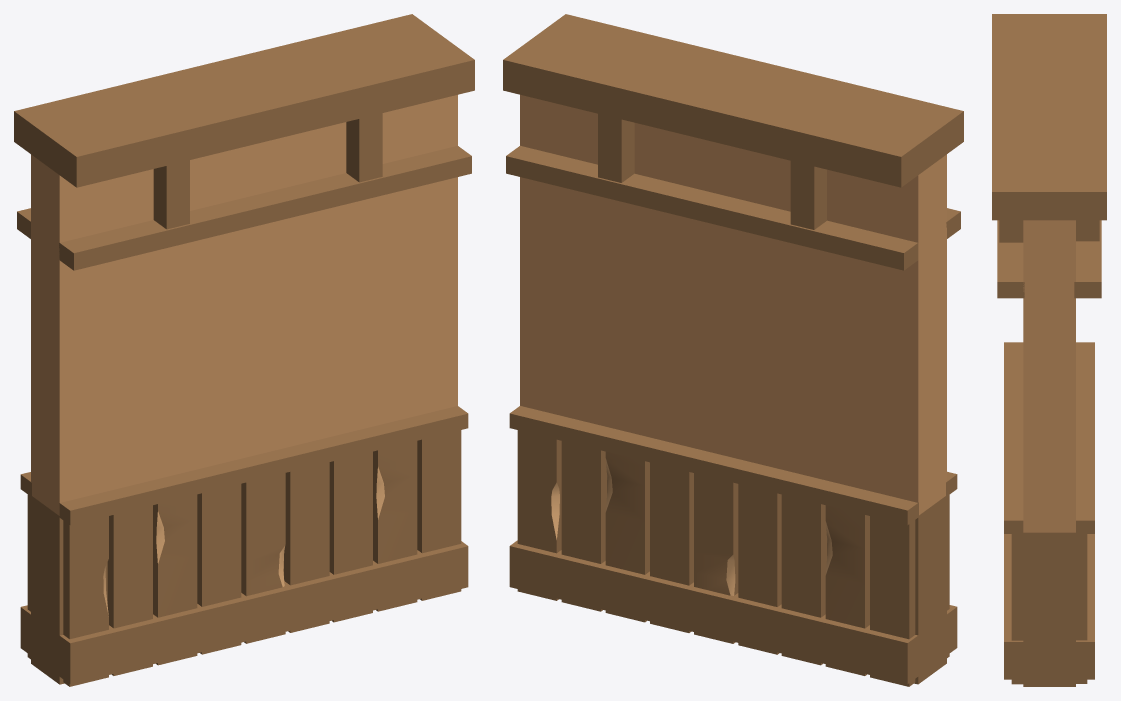
File: normal2.fbx
The picture shows the model from 3 angles, left to right: view 1: azimuth 30°, elevation 25°; view 2: azimuth 150°, elevation 25°; view 3: azimuth 270°, elevation 25°; orthographic projection. The views are drawn at different scales.
Parts seen in each view (by area): view 1: Wall_Normal; view 2: Wall_Normal; view 3: Wall_Normal.
Part boxes in pixels (bbox=[...]): Wall_Normal: bbox=[14, 14, 474, 686]; Wall_Normal: bbox=[503, 14, 963, 686]; Wall_Normal: bbox=[992, 14, 1106, 686].
Size of the model in its own units: 400 by 518 by 109.
